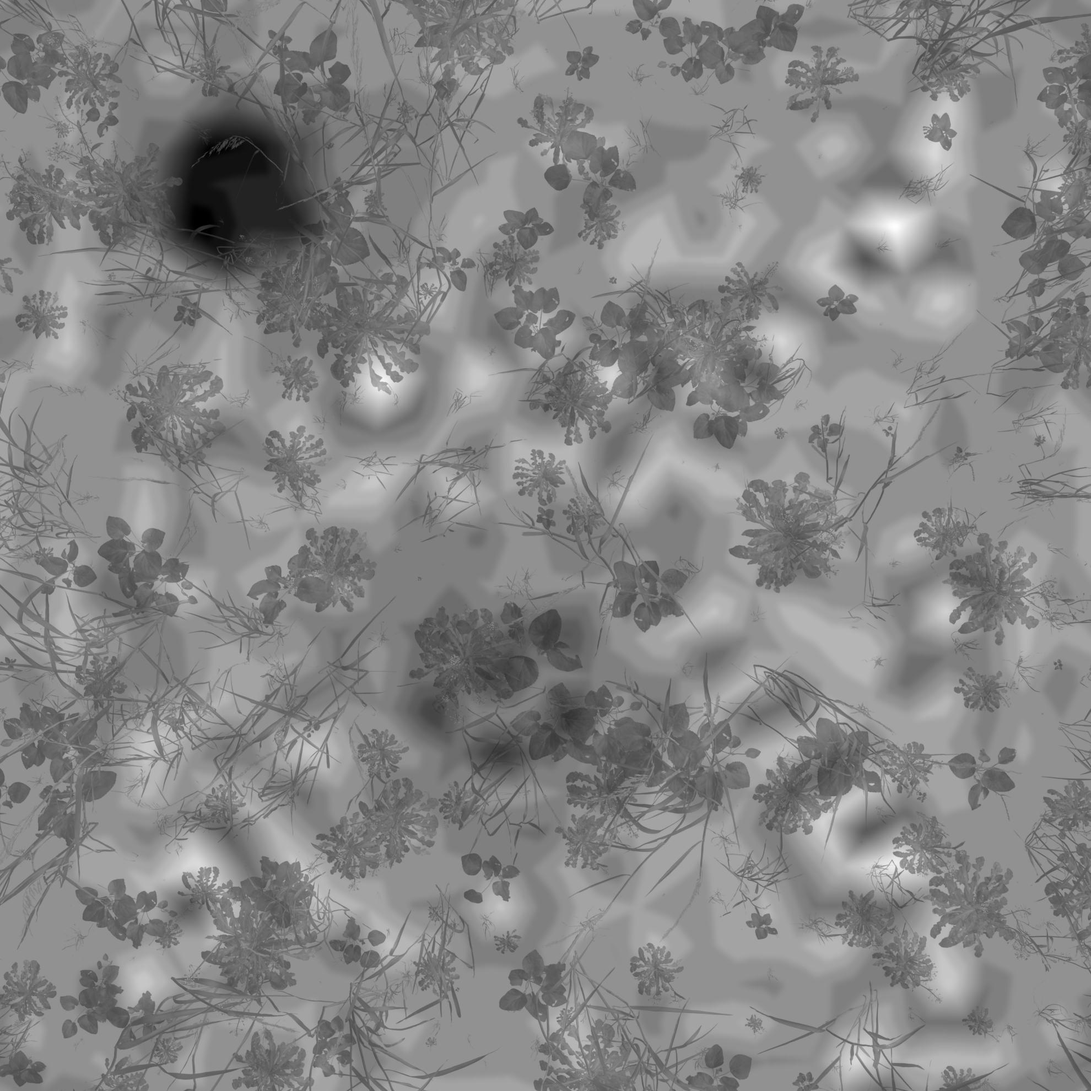landmine: (411, 592, 600, 762), (162, 113, 324, 278)
